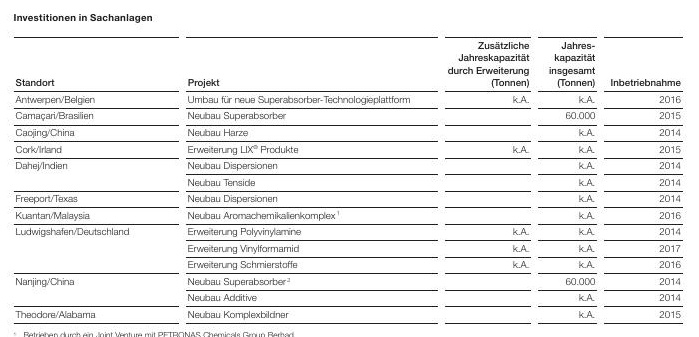table: (0, 0, 699, 337)
